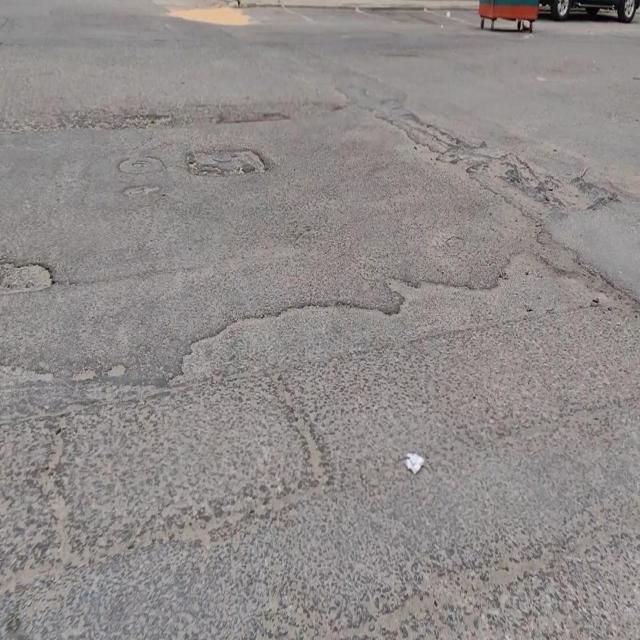Pothole: (182, 143, 269, 181), (1, 256, 57, 296)
